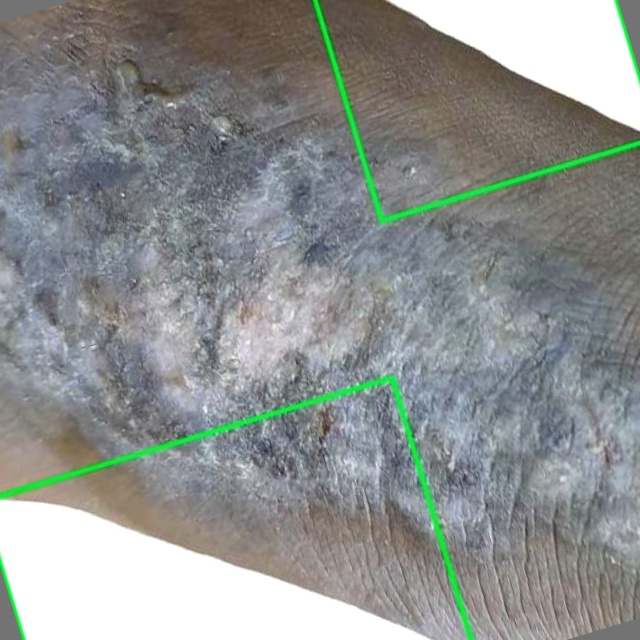Contact Dermatitis: (0, 377, 470, 639), (315, 0, 639, 221)
